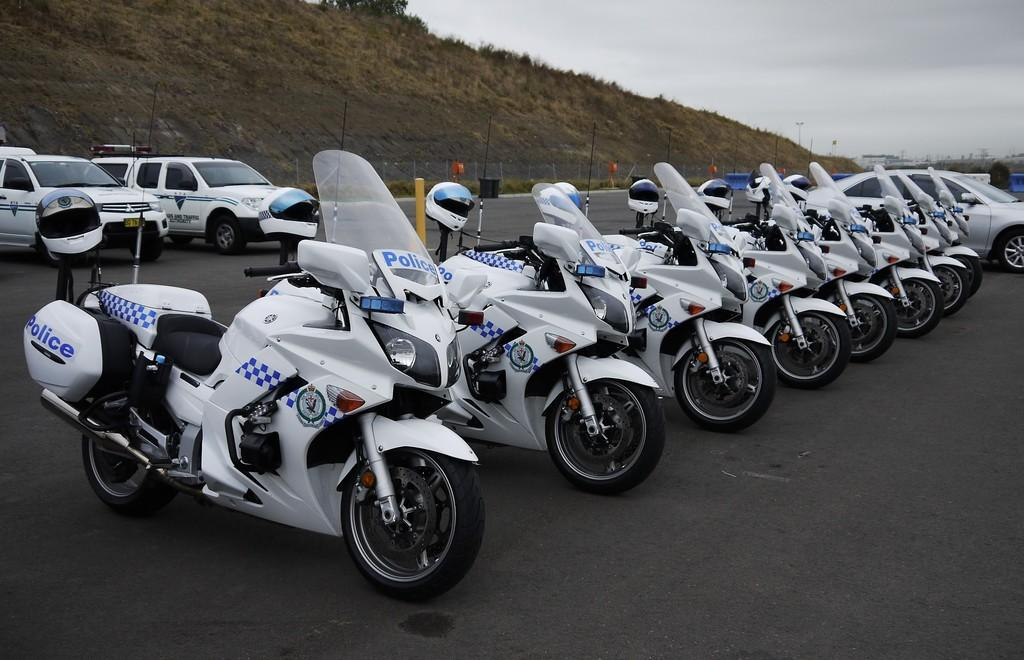helmet: (35, 188, 103, 254), (258, 187, 320, 240), (425, 181, 475, 231), (539, 182, 583, 225), (696, 178, 734, 211), (628, 179, 659, 214), (745, 169, 771, 203), (782, 174, 813, 201)
